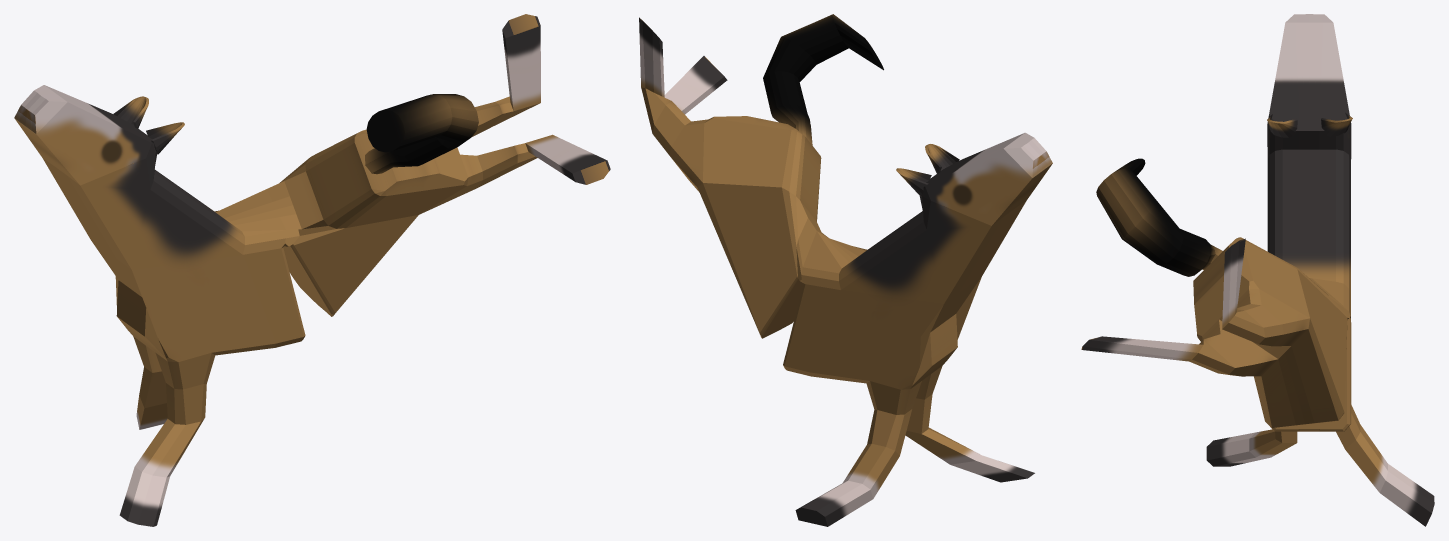
Rendered from cavalinho quebrado.fbx.
3 views of the same model, side by side, from view 1: azimuth 30°, elevation 25°; view 2: azimuth 150°, elevation 25°; view 3: azimuth 270°, elevation 25° (orthographic). The views are drawn at different scales.
Visible parts, largest first — view 1: cavalinhoQuebrado; view 2: cavalinhoQuebrado; view 3: cavalinhoQuebrado.
Part boxes in pixels (<box>): cavalinhoQuebrado: <box>14,14,610,526</box>; cavalinhoQuebrado: <box>639,14,1052,526</box>; cavalinhoQuebrado: <box>1081,14,1434,526</box>.
Bounding box in the file's own units: 103 × 85.68 × 65.49.
1 material, 1 textured.
